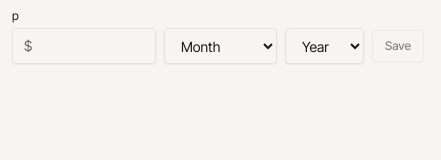
Scenario: AnswerPrompt — amount-month-year arm (the T2 kernel-control delta) › the month error clears (trio and all) when the selection becomes valid
Step 1. Type "60000" into the field named "Amount" → (84, 46), box [12, 28, 156, 64]
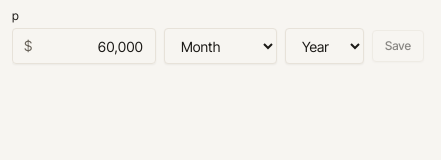
Step 2. Select "January" in the dropdown named "Month" → (220, 46), box [164, 28, 277, 64]
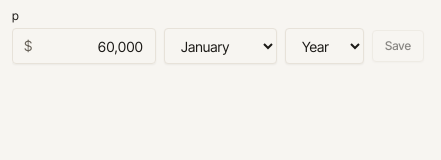
Step 3. Select "2026" in the dropdown named "Year" → (324, 46), box [285, 28, 364, 64]
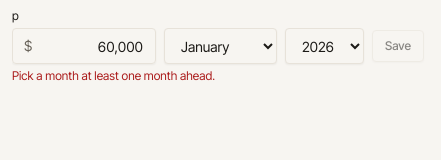
Check: the text "Pick a month at least one month ahead." is shown, box [12, 68, 215, 83]
Step 4. Select "2028" in the dropdown named "Year" → (324, 46), box [285, 28, 364, 64]
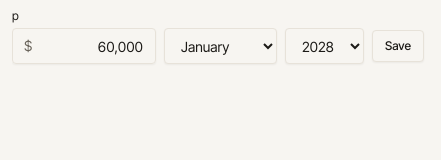
Check: the text "Pick a month at least one month ahead." is gone
Check: the button "Save" is enabled, box [372, 30, 424, 62]
